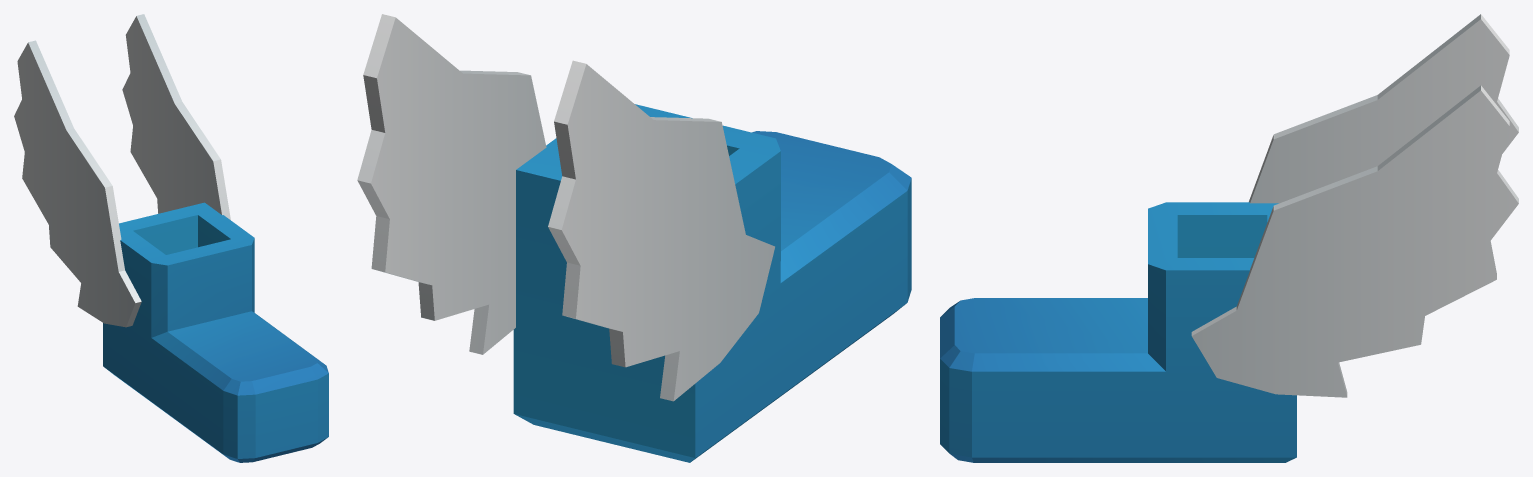
Rendered from bootofswiftness.fbx.
3 views of the same model, side by side, from view 1: azimuth 30°, elevation 25°; view 2: azimuth 150°, elevation 25°; view 3: azimuth 270°, elevation 25° (orthographic). The views are drawn at different scales.
Parts seen in each view (by area): view 1: boot of swiftness; view 2: boot of swiftness; view 3: boot of swiftness.
Boxes of the visible parts, left/top/right/bottom form: boot of swiftness: left=14, top=14, right=328, bottom=462; boot of swiftness: left=357, top=14, right=911, bottom=462; boot of swiftness: left=940, top=14, right=1518, bottom=462.
Size of the model in its own units: 56.41 by 131 by 181.
1 material, 1 textured.
